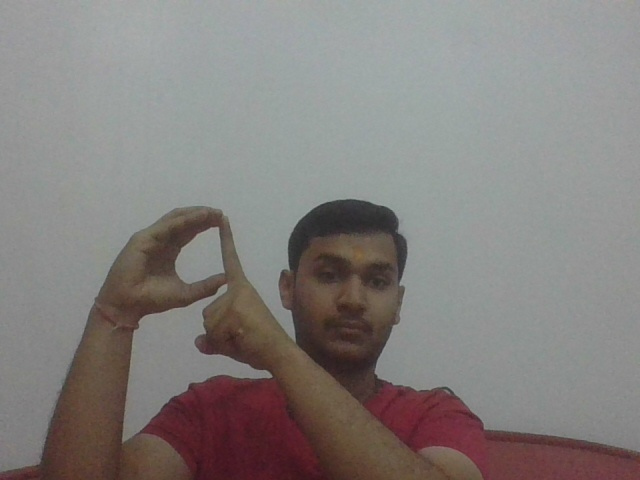D: (109, 204, 273, 370)
